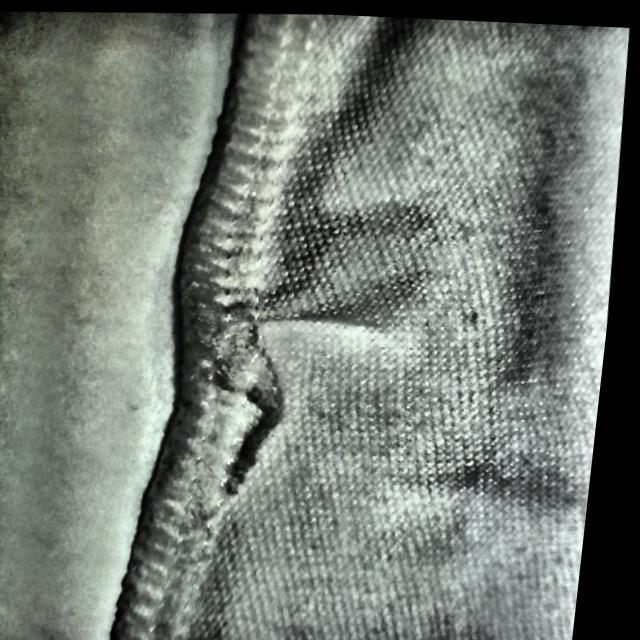seam: (168, 270, 375, 494)
